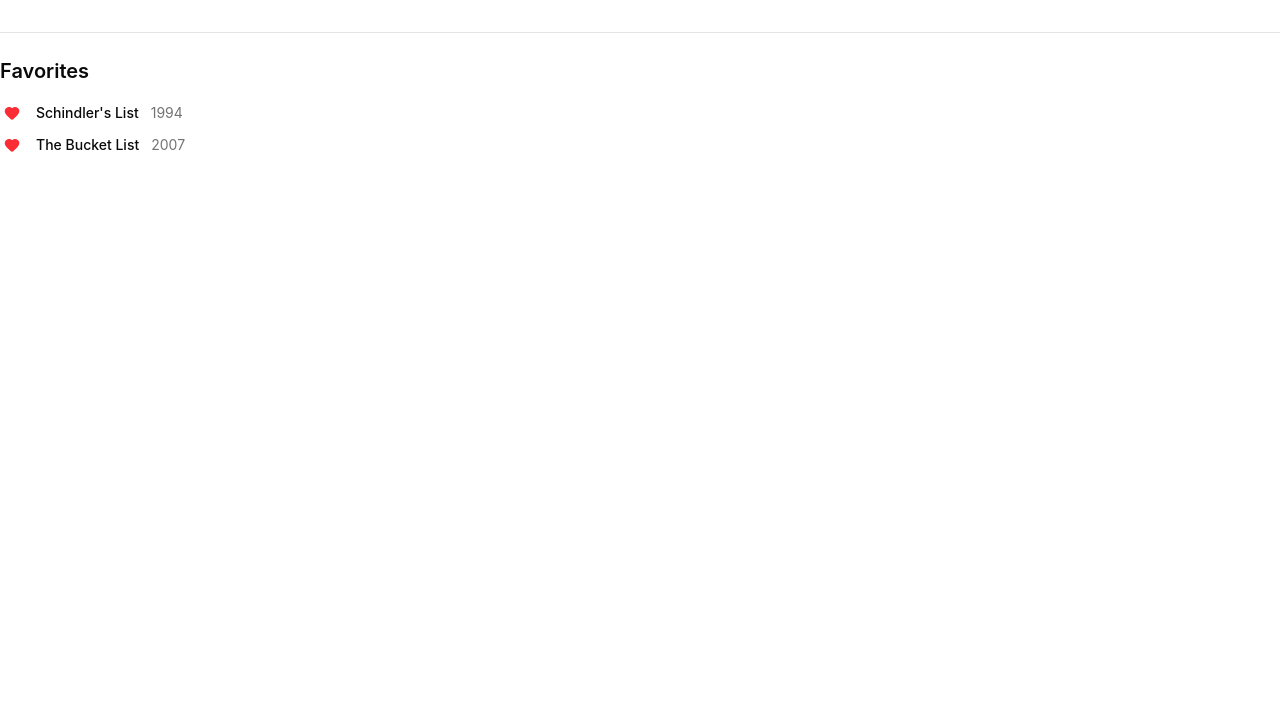
Scenario: FavoritesList › dialog shows the correct movie title
What coordinates should you click on to do the following:
click the button named "Remove The Bucket List from favorites"
I would click on:
 (12, 145)
Its box is [0,133,24,157].
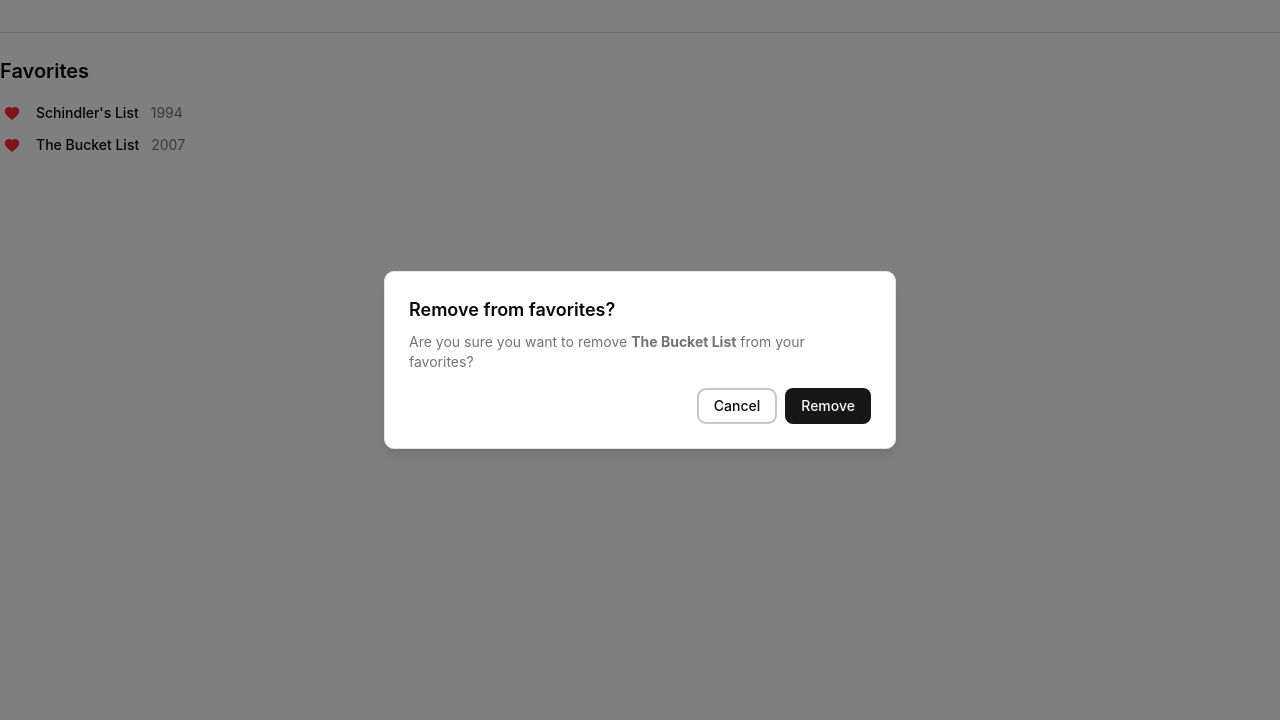
Expected: the dialog shows "The Bucket List", [631,333,736,350]
